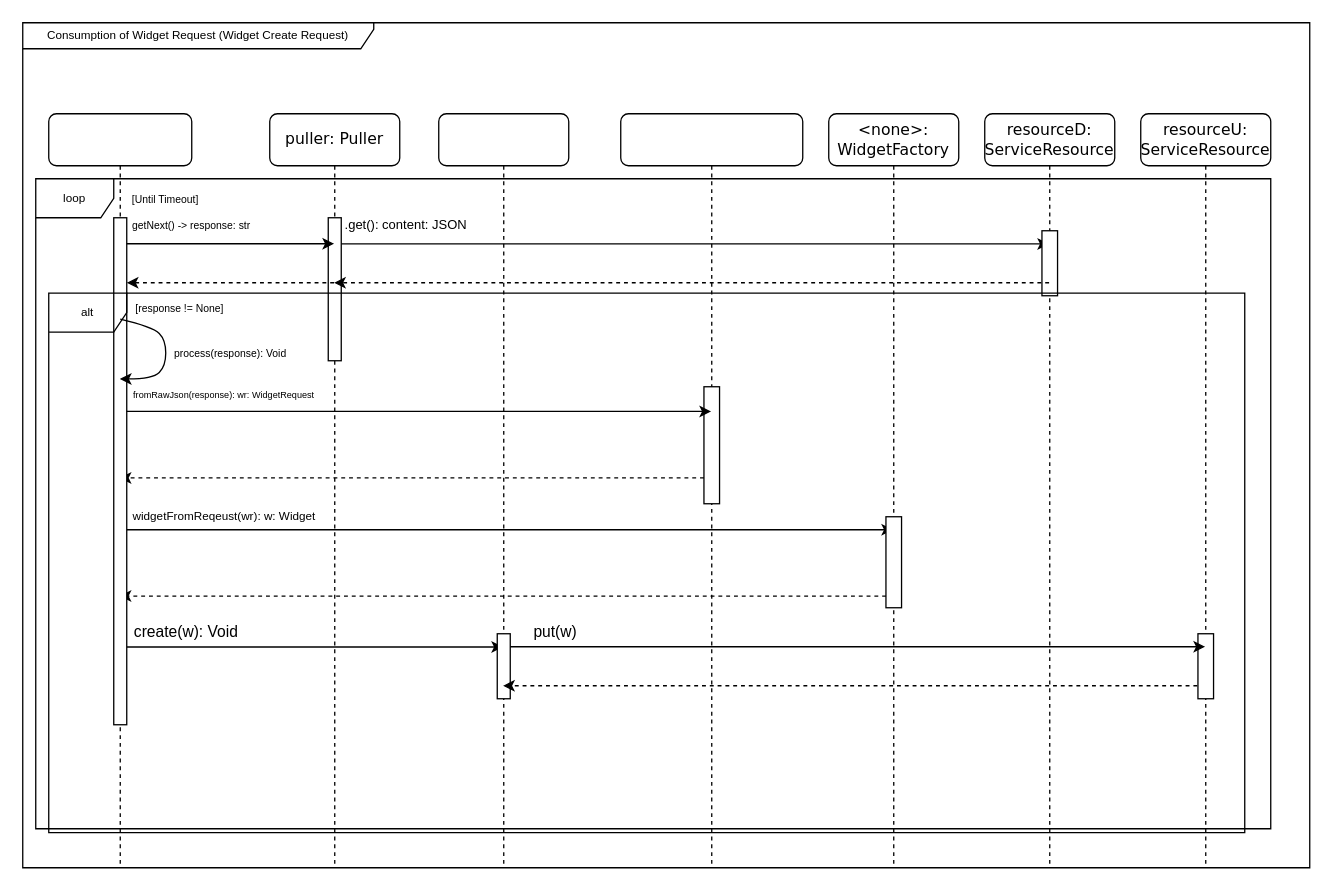
This 1333x890 diagram has some shape labels left out. Each missing label, with the box of its shape:
<none>: WidgetReqeustFactory: (619, 112, 803, 868)
consumer: Consumer: (47, 112, 192, 868)
pusher: Pusher: (437, 112, 569, 868)
